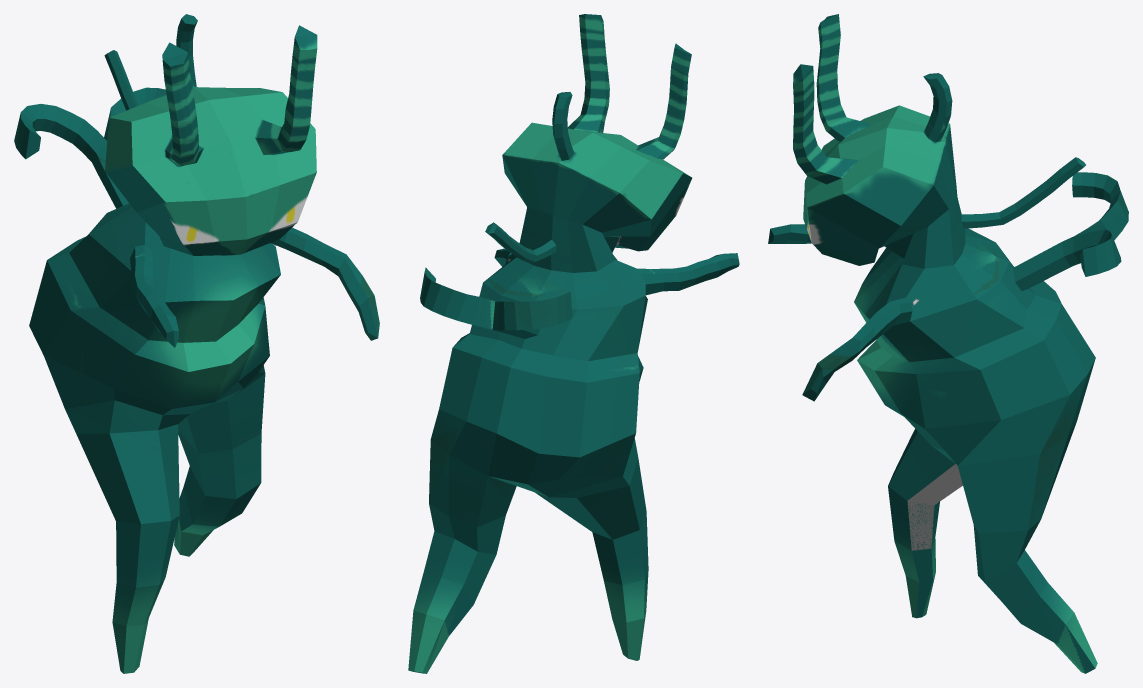
The model's file is monstruo1_caminar_94.obj.
3 views of the same model, side by side, from view 1: azimuth 30°, elevation 25°; view 2: azimuth 150°, elevation 25°; view 3: azimuth 270°, elevation 25° (orthographic). The views are drawn at different scales.
Parts seen in each view (by area): view 1: Monstruo_basico; view 2: Monstruo_basico; view 3: Monstruo_basico.
Part boxes in pixels (x1,y1,x2,y2): Monstruo_basico: (14,14,379,673); Monstruo_basico: (408,14,739,673); Monstruo_basico: (768,14,1128,673).
Bounding box in the file's own units: 0.3779 × 1 × 0.5445.
